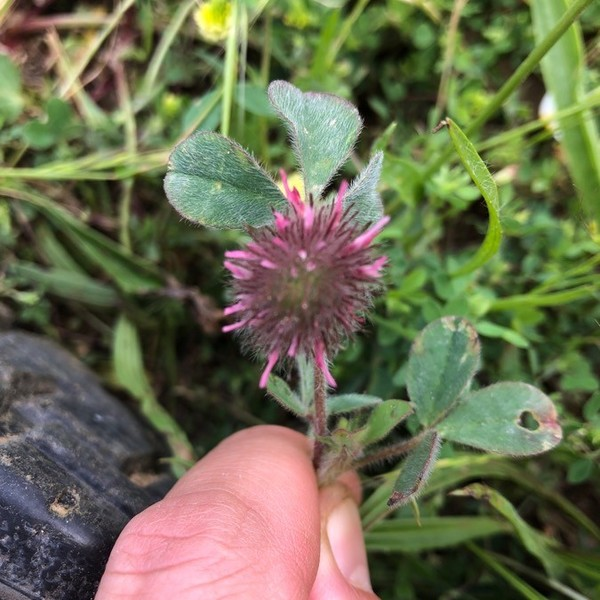obstacle: (184, 63, 576, 474)
